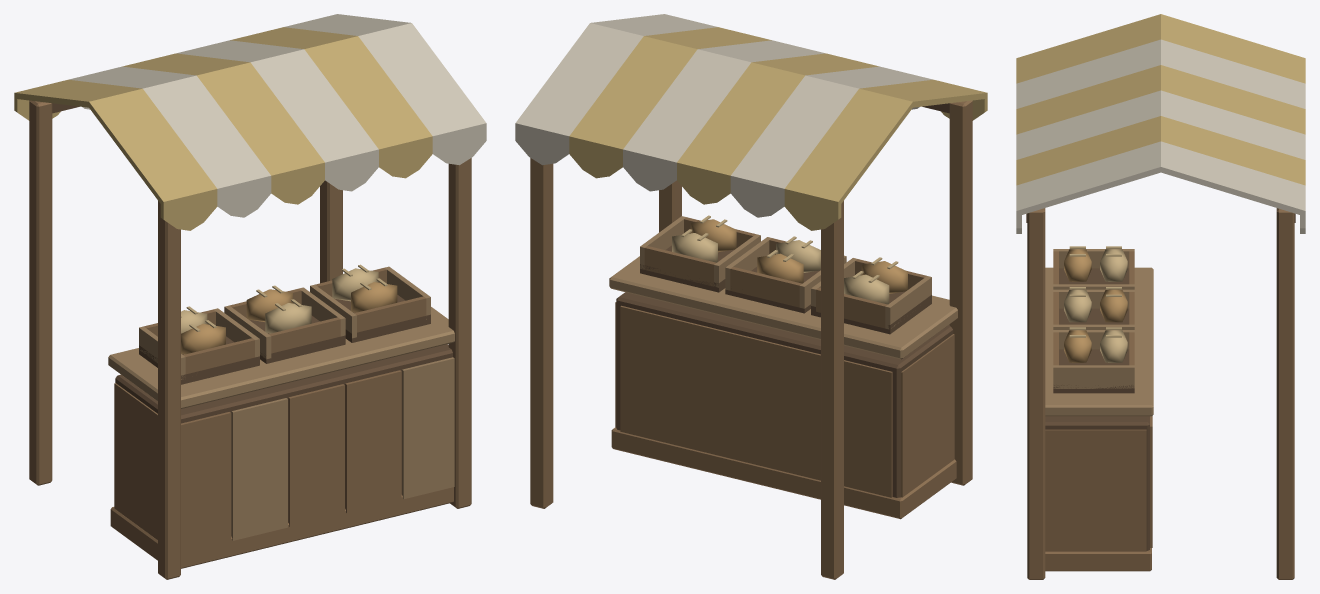
Rendered from stall_bakery.glb.
The picture shows the model from 3 angles, left to right: view 1: azimuth 30°, elevation 25°; view 2: azimuth 150°, elevation 25°; view 3: azimuth 270°, elevation 25°; orthographic projection. The views are drawn at different scales.
Parts seen in each view (by area): view 1: stall_bakery; view 2: stall_bakery; view 3: stall_bakery.
Part boxes in pixels (x1,y1,x2,y2): stall_bakery: (14,14,486,579); stall_bakery: (515,14,987,579); stall_bakery: (1016,14,1305,579).
Size of the model in its own units: 2 by 2.55 by 1.6.
